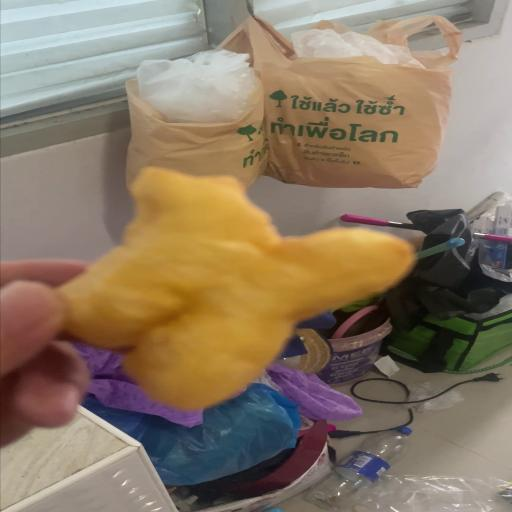street_golden_good: (61, 167, 415, 409)
